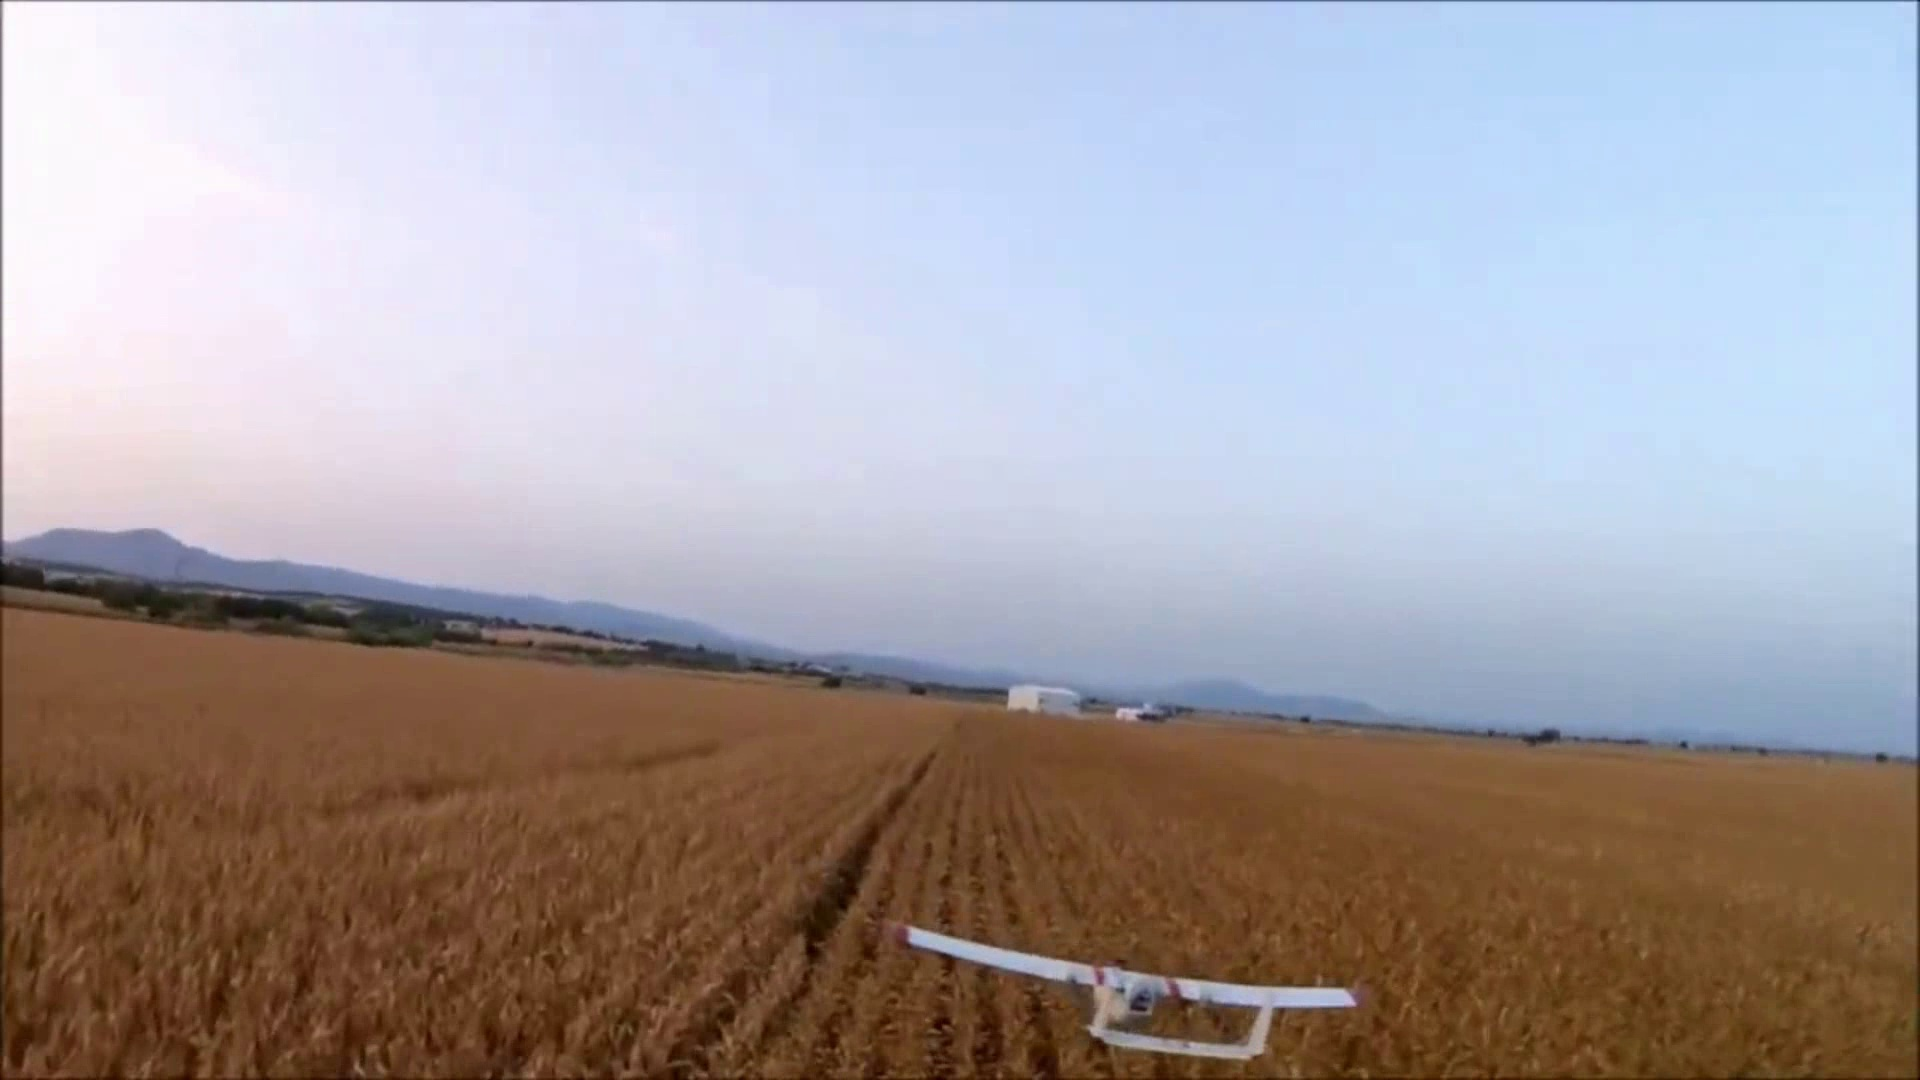airplane: (895, 920, 1361, 1065)
